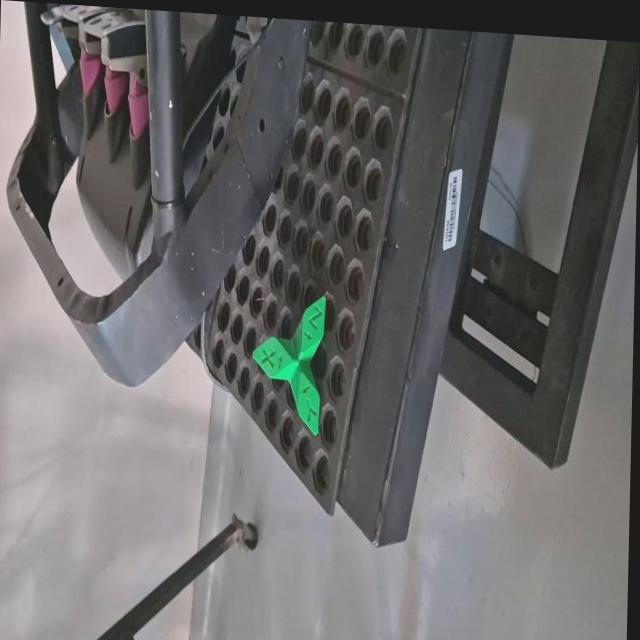eje: (249, 290, 326, 438)
